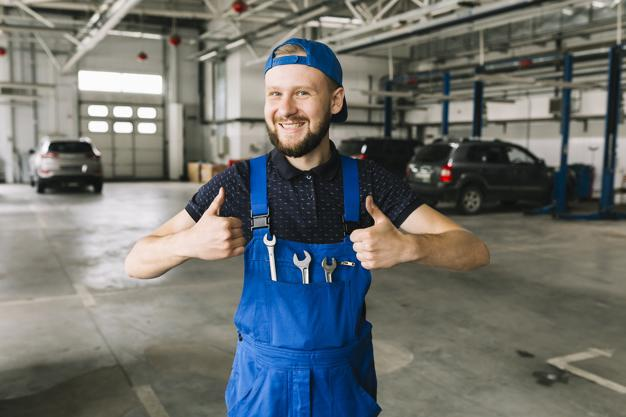thumbsup: (349, 195, 386, 270), (209, 186, 245, 258)
